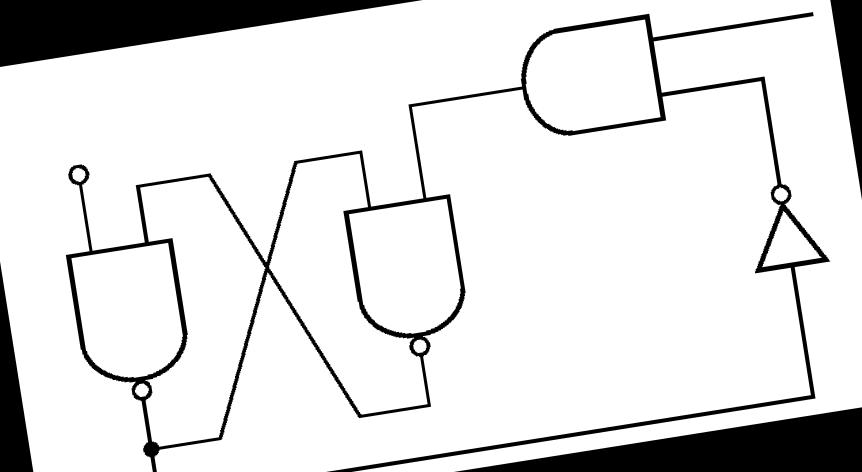and: (505, 7, 672, 148)
nand: (56, 228, 204, 414), (338, 188, 480, 371)
not: (732, 171, 836, 280)
